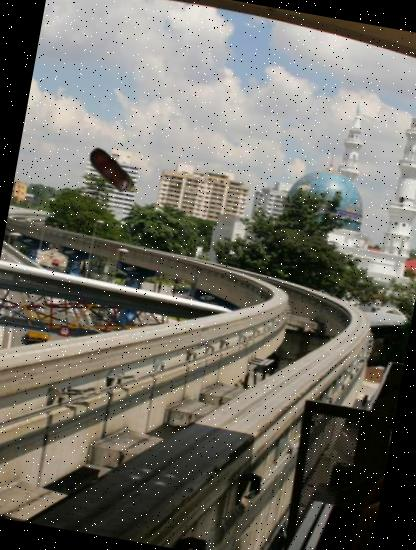Eggplant: (76, 136, 150, 209)
